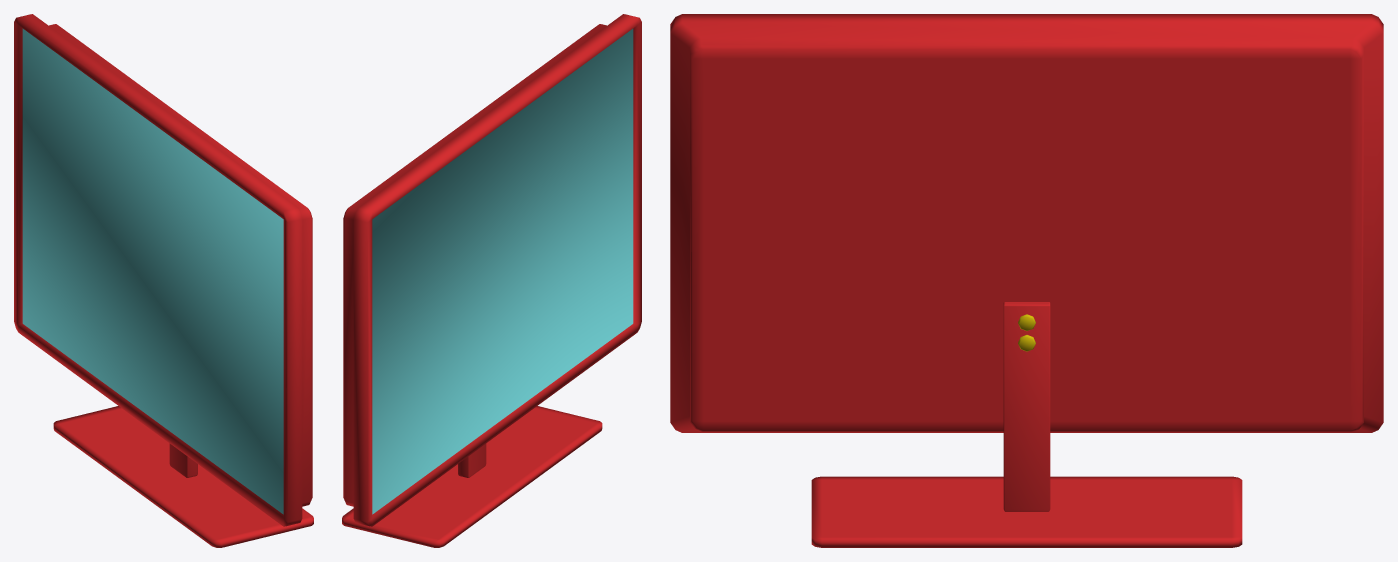
The model's file is MOD_ELE_TV_01.fbx.
3 renders of one model, left to right at view 1: azimuth 30°, elevation 25°; view 2: azimuth 150°, elevation 25°; view 3: azimuth 270°, elevation 25°, orthographic. The views are drawn at different scales.
Parts seen in each view (by area): view 1: HSHP_MOD_TV; view 2: HSHP_MOD_TV; view 3: HSHP_MOD_TV.
Boxes of the visible parts, box(x1,y1,x2,y2) form: HSHP_MOD_TV: box(14, 14, 313, 547); HSHP_MOD_TV: box(342, 14, 641, 547); HSHP_MOD_TV: box(670, 14, 1383, 547).
Bounding box in the file's own units: 0.3653 × 1.28 × 1.72.
